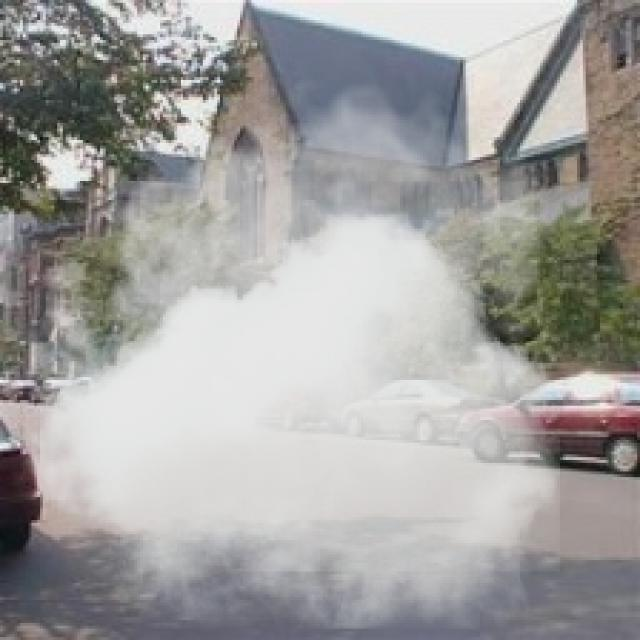smoke: (6, 66, 560, 628)
